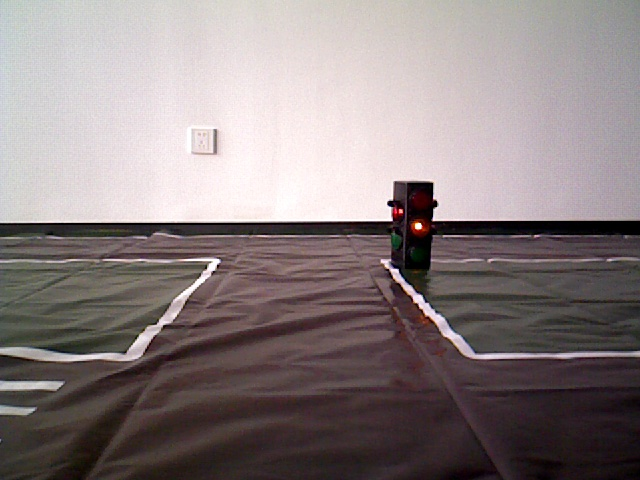yellow: (389, 179, 433, 273)
